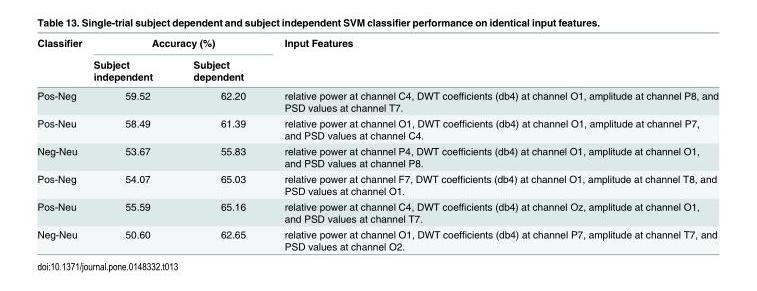table: (36, 36, 717, 251)
table column: (264, 36, 717, 251), (172, 36, 264, 251), (87, 36, 172, 251), (36, 36, 87, 251)
table column header: (36, 36, 717, 85)
table row: (36, 53, 717, 85), (36, 85, 717, 115), (36, 142, 717, 170), (36, 170, 717, 198), (36, 198, 717, 226), (36, 115, 717, 142), (36, 226, 717, 251), (36, 36, 717, 53)
table spanning cell: (264, 36, 717, 85), (87, 36, 264, 53), (36, 36, 87, 85)
